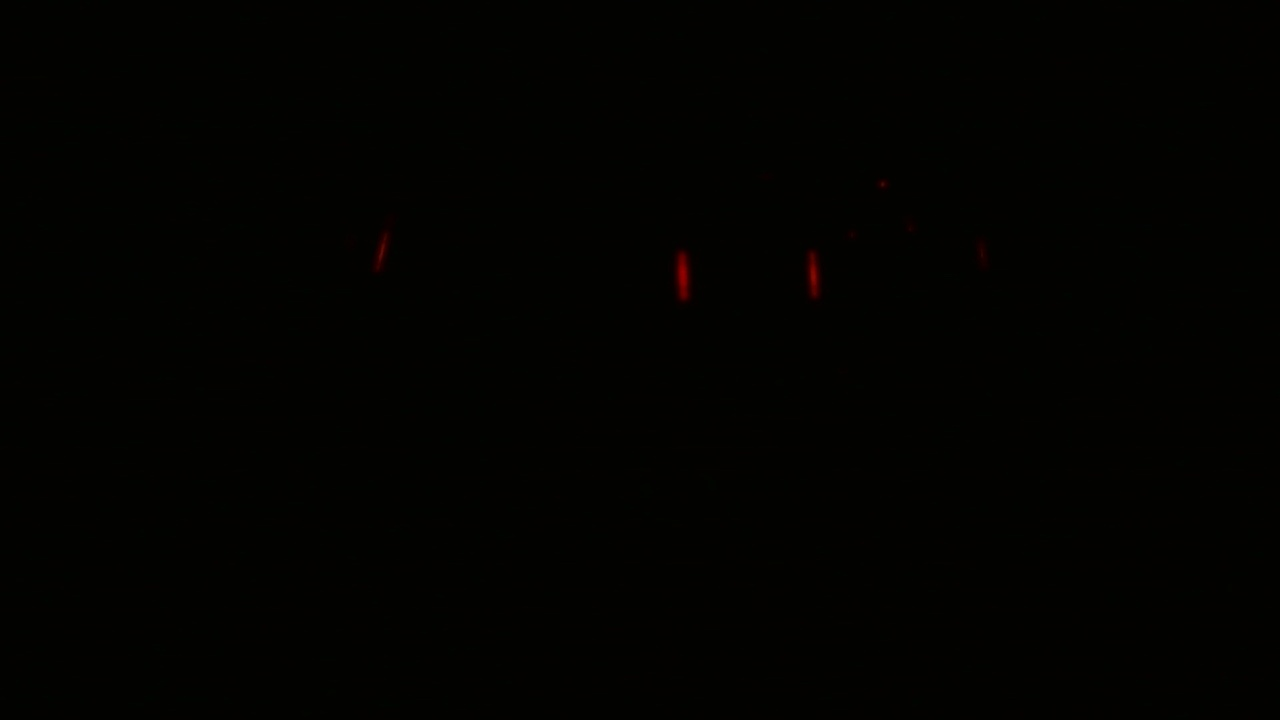pair1: (671, 247, 822, 304)
